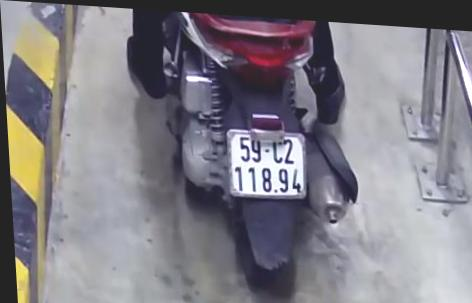License_Plate: (217, 120, 311, 210)
